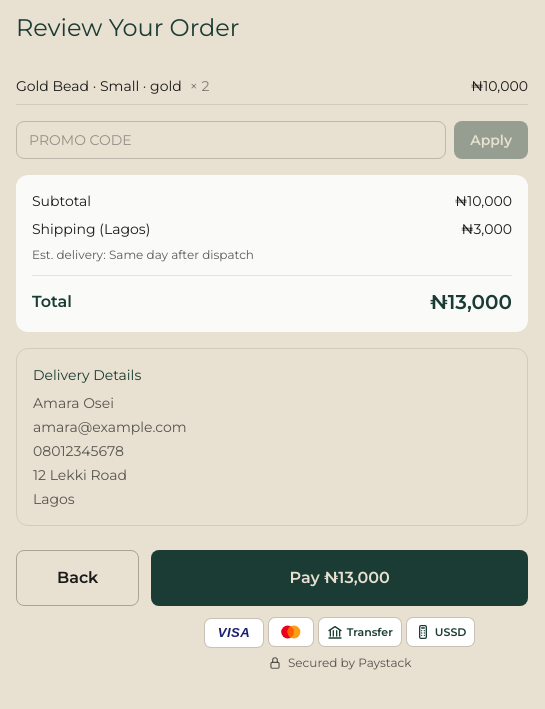
it: OrderReview — promo code (errors) › shows error message for an expired code
Expected: the text "₦3,000" is shown, [461,219,512,239]
Step 1. Type "EXPIRED" into the field with placeholder "Promo code" → {"x": 231, "y": 140}, box [16,121,446,159]
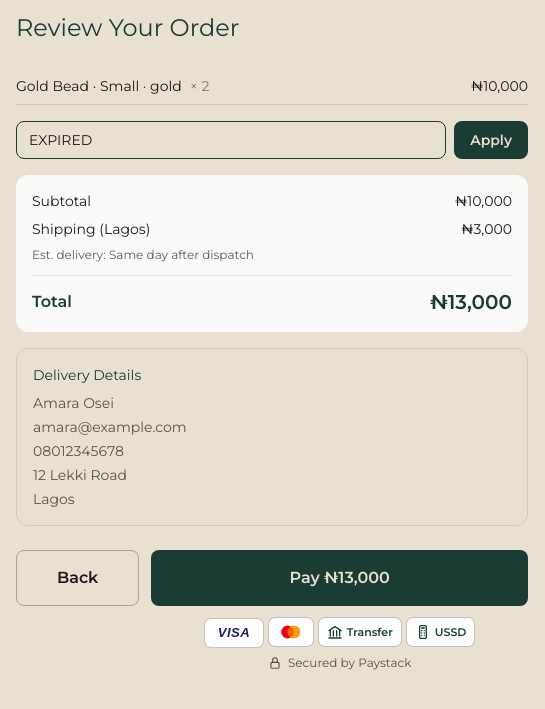
Step 2. Click the button "Apply" → {"x": 491, "y": 140}, box [454,121,528,159]
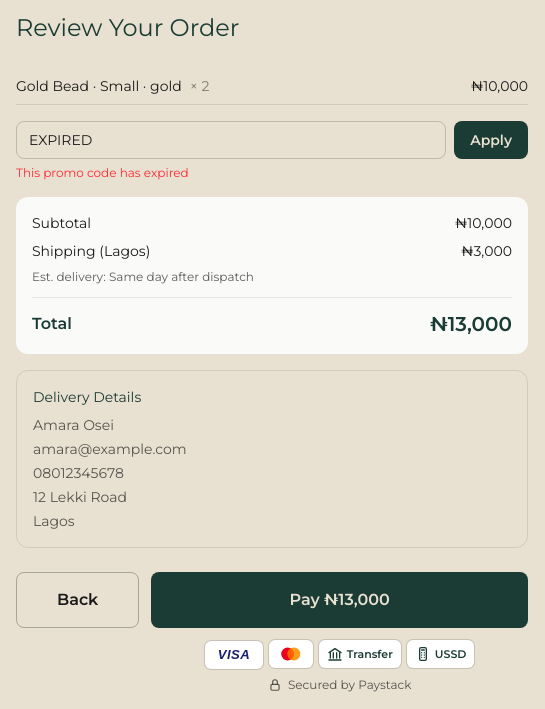
Now the text "This promo code has expired" is shown, box [16,165,189,180]
